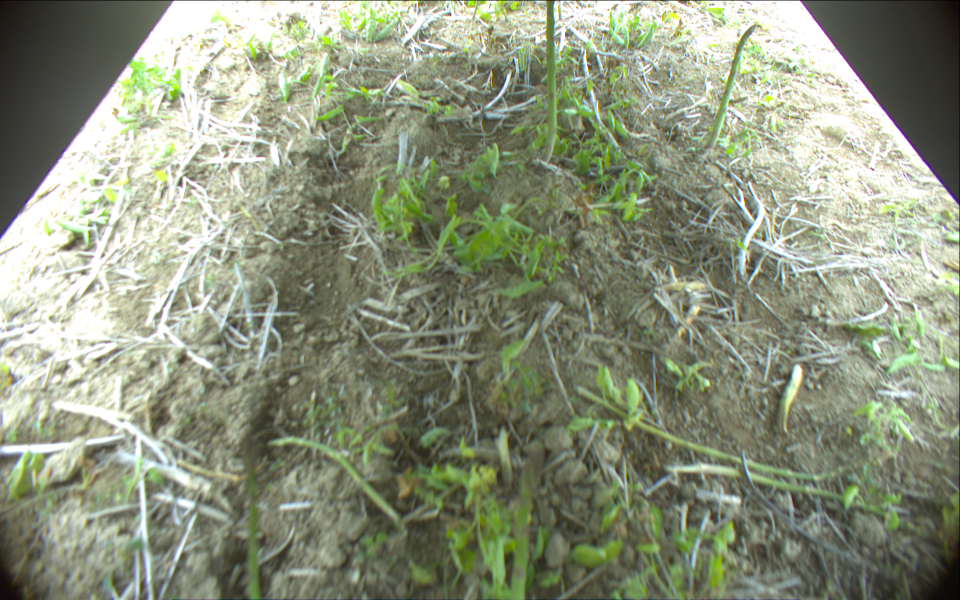aspa: (574, 386, 860, 482), (665, 466, 935, 535), (267, 434, 405, 528), (704, 22, 761, 151), (511, 440, 543, 600), (242, 435, 260, 598), (543, 1, 558, 164)
